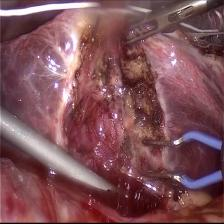Bipolar: (140, 129, 224, 191)
Grasper: (118, 0, 193, 52)
Irrigator: (90, 164, 131, 208)
Specimen Bag: (179, 0, 221, 60)
